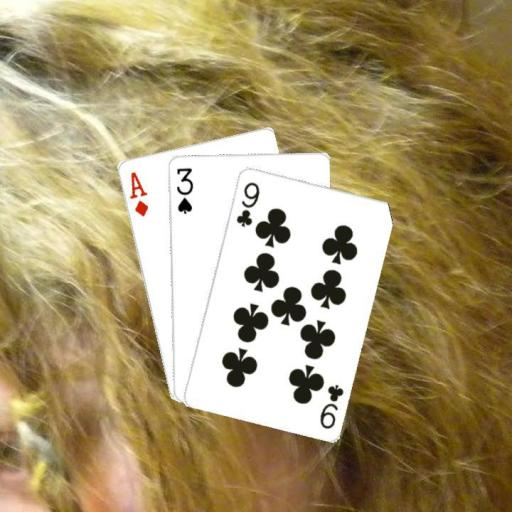3S: (173, 164, 194, 215)
9C: (316, 381, 345, 431), (233, 179, 261, 229)
AD: (126, 169, 149, 218)
